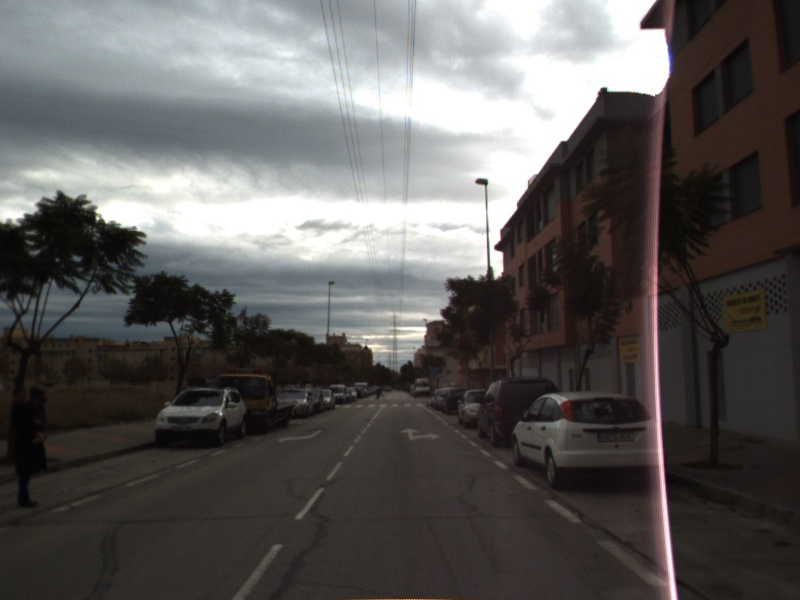STRAIGHT_RIGHT: (398, 426, 441, 442)
